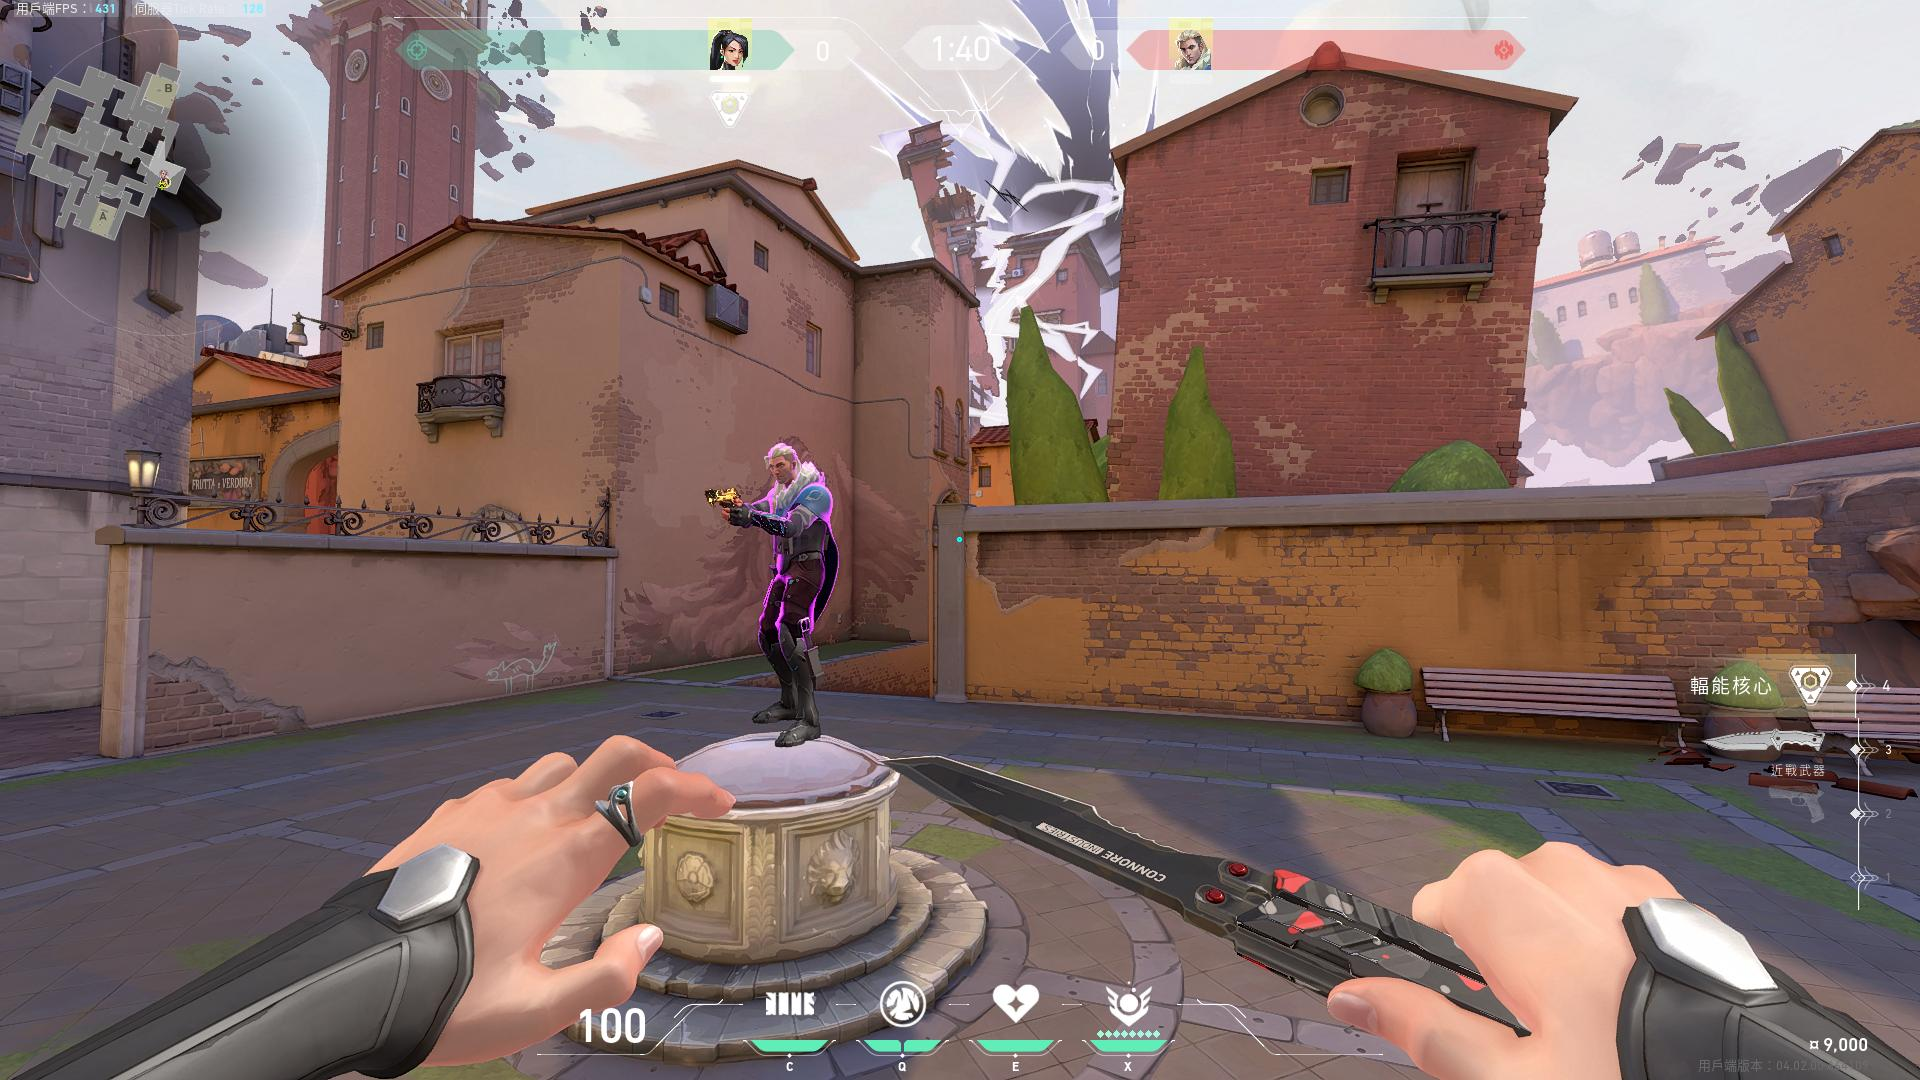enemyBody: (777, 488, 818, 550)
enemyHead: (769, 452, 796, 477)
